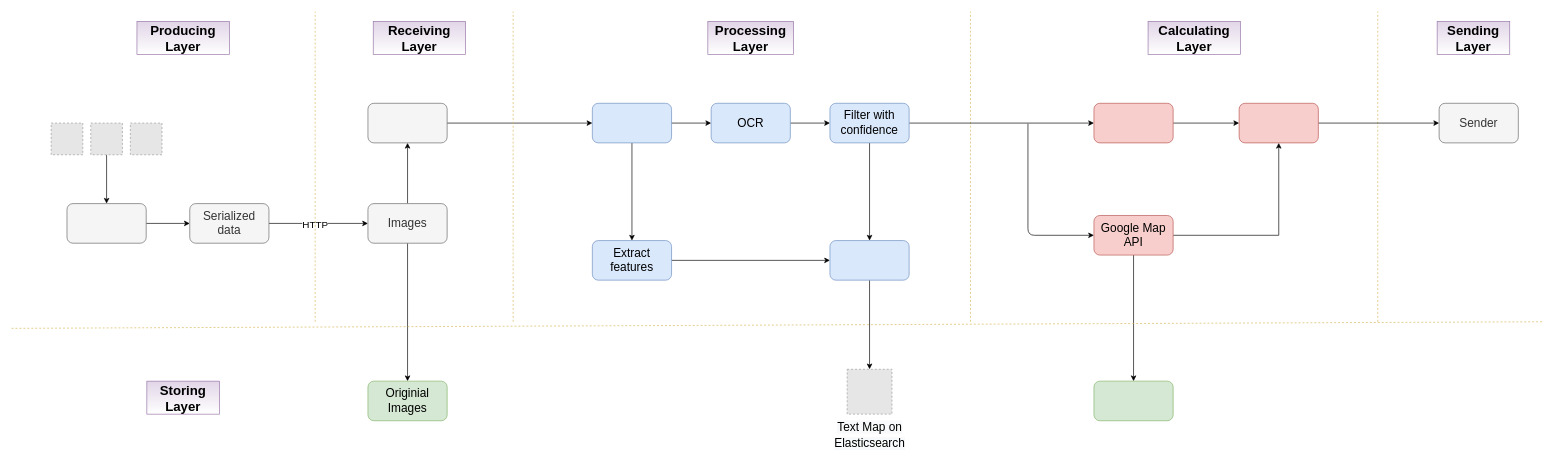
This 1555x463 diagram has some shape labels left out. Grey dashed boxes stand in for pictures. The centre of each missing label's shape, as x and y in pixels:
"Build Text Map with GPS" goes at point (869, 260).
"Debluring" goes at point (632, 123).
"New images" goes at point (106, 223).
"POIs Database" goes at point (1133, 400).
"Selector" goes at point (1278, 123).
"Series of images" goes at point (407, 123).
"Text retrieval on Text book" goes at point (1133, 123).
